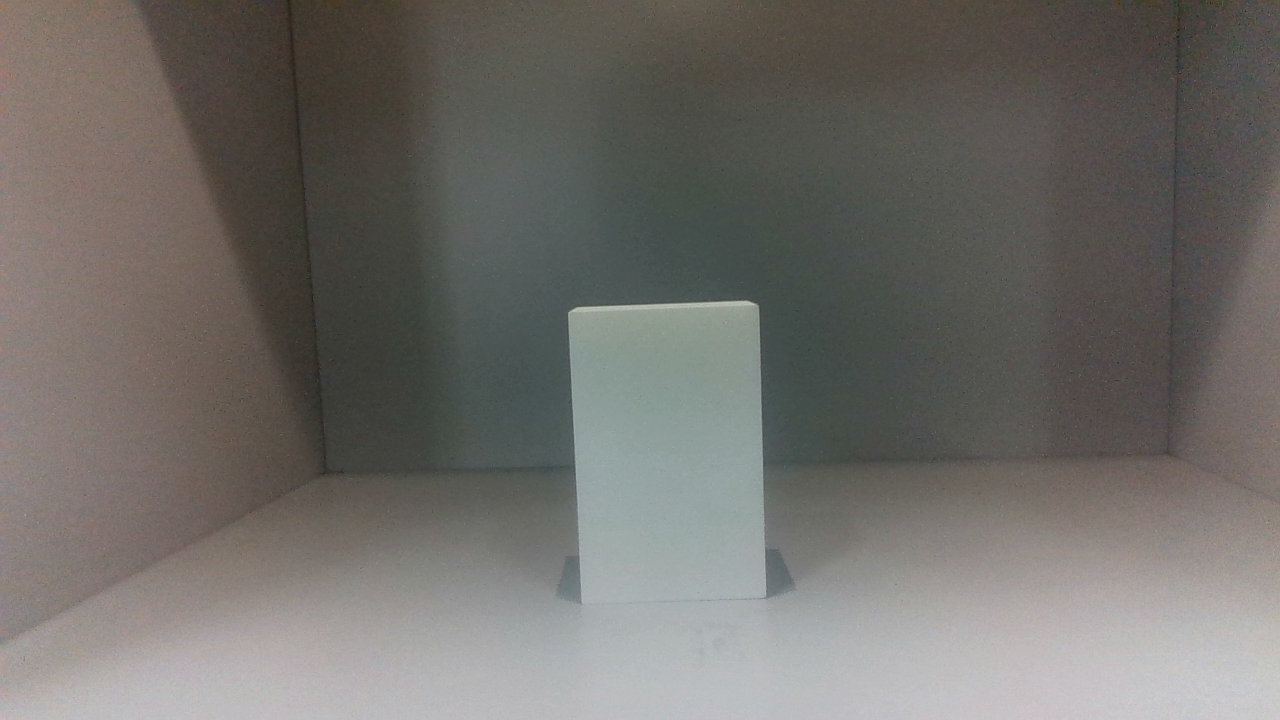Retangulo: (568, 301, 766, 603)
